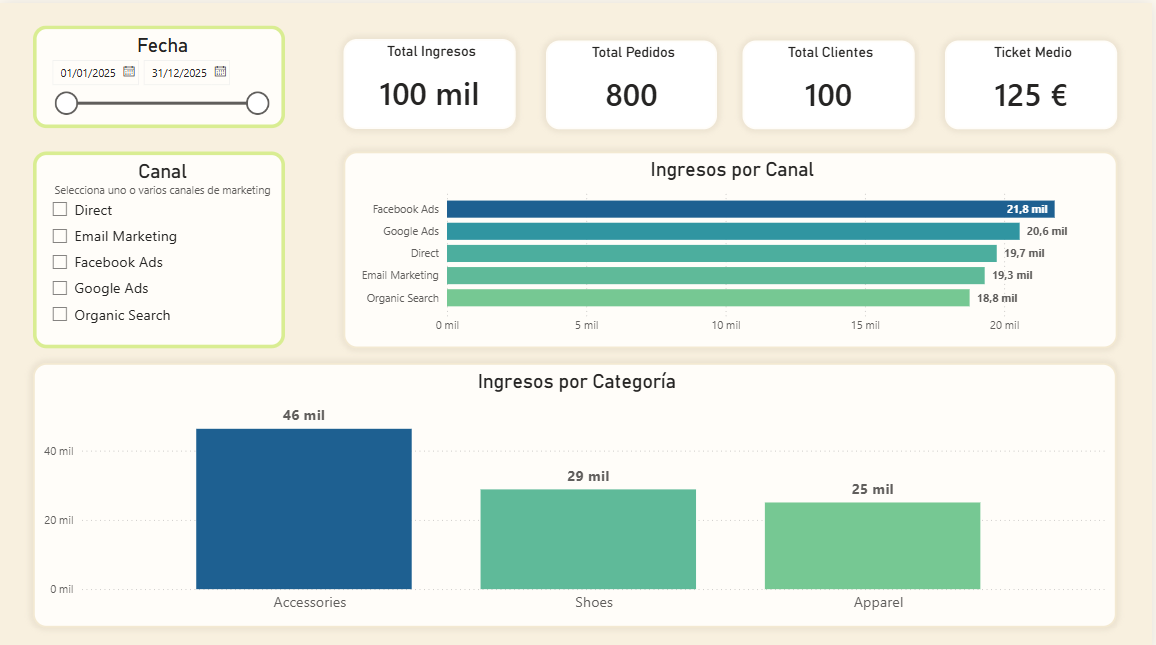

Layout of this report page (visuals, bound fields, positions):
{"tool":"powerbi","page":{"name":"01 - Overview","canvas":[1280,720],"ordinal":0},"visuals":[{"type":"cardVisual","title":"Total Ingresos","fields":{"Data":["_Measures.Total Revenue"]},"box":[381.4,40,191.4,100],"z":0},{"type":"cardVisual","title":"Total Pedidos","fields":{"Data":["_Measures.Total Orders"]},"box":[607.1,41.4,190,98.6],"z":1000},{"type":"cardVisual","title":"Total Clientes","fields":{"Data":["_Measures.Customer Count"]},"box":[824.3,41.4,191.4,98.6],"z":2000},{"type":"cardVisual","title":"Ticket Medio","fields":{"Data":["_Measures.AOV (Average Order Value)"]},"box":[1050,41.4,191.4,98.6],"z":3000},{"type":"slicer","title":"Fecha","fields":{"Values":["Dim_dates.Date"]},"box":[37.1,25.7,280,114.3],"z":4000},{"type":"slicer","title":"Canal","fields":{"Values":["Dim_channels.ChannelName"]},"box":[37.1,164.3,280,218.6],"z":5000},{"type":"clusteredColumnChart","title":"Ingresos por Categoría","fields":{"Category":["Dim_products.Category"],"Y":["_Measures.Total Revenue"]},"box":[37.1,400,1204.3,294.3],"z":6000},{"type":"clusteredBarChart","title":"Ingresos por Canal","fields":{"Category":["Dim_channels.ChannelName"],"Y":["_Measures.Total Revenue"]},"box":[381.4,164.3,860,218.6],"z":7000}]}

Visuals, with their boxes in screenshot pixels (x1, y1, x2, y2), scaled from the page's 1280x720 canvas onto the 1156x645 screenshot:
"Total Ingresos" cardVisual: 344/36/517/125
"Total Pedidos" cardVisual: 548/37/720/125
"Total Clientes" cardVisual: 744/37/917/125
"Ticket Medio" cardVisual: 948/37/1121/125
"Fecha" slicer: 34/23/286/125
"Canal" slicer: 34/147/286/343
"Ingresos por Categoría" clusteredColumnChart: 34/358/1121/622
"Ingresos por Canal" clusteredBarChart: 344/147/1121/343
